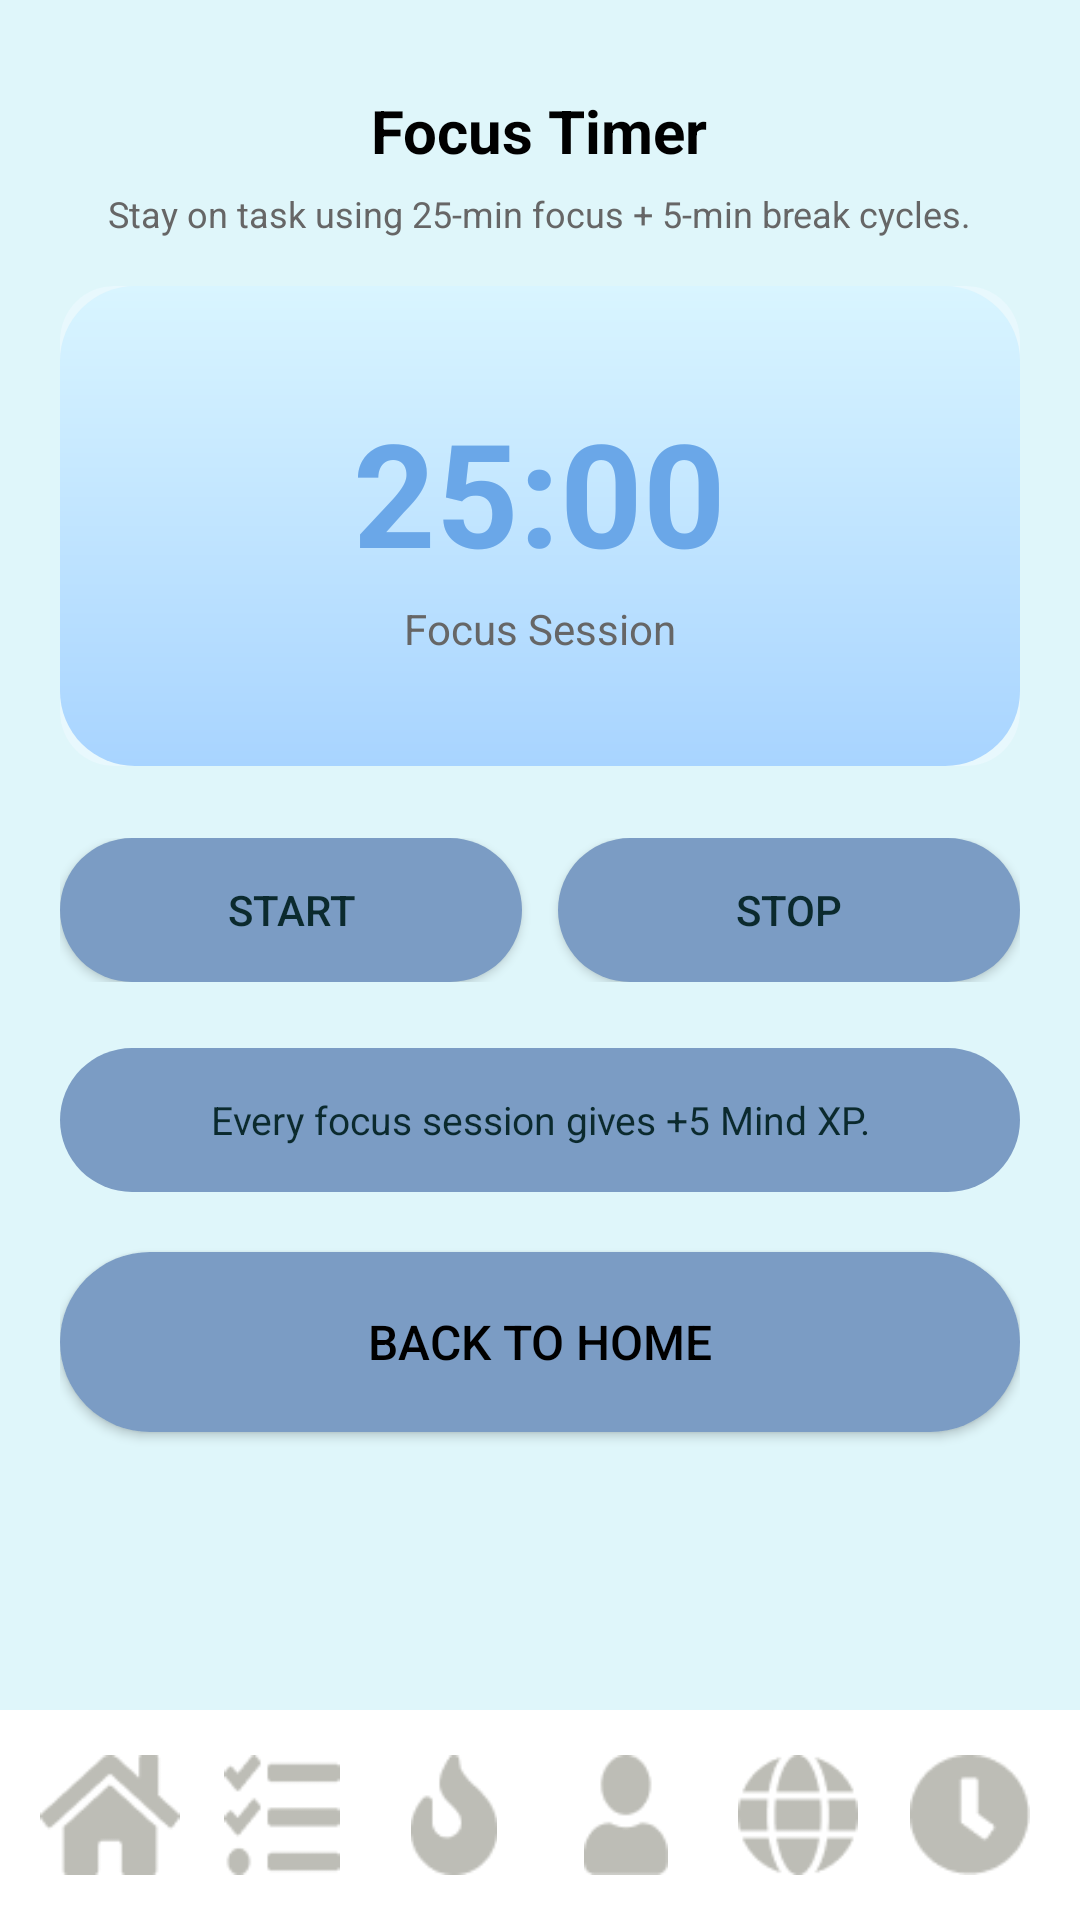

Screen size 1080*1920. Icon name, then its box in pixels as (x1, y1, x2, y2):
community: (738, 1755, 858, 1875)
home: (40, 1755, 180, 1875)
profile: (584, 1755, 668, 1875)
streaks: (411, 1755, 497, 1875)
tasks: (224, 1755, 340, 1875)
timer: (910, 1755, 1030, 1875)
